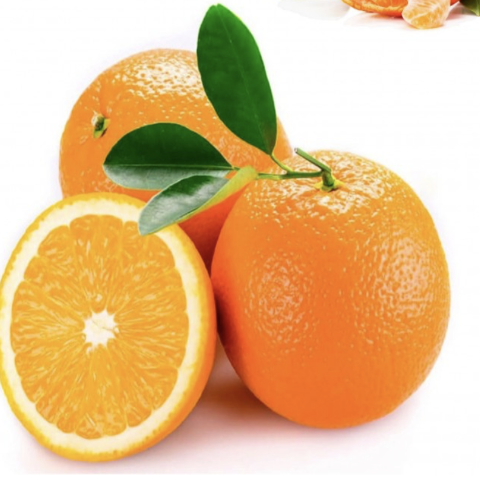orange: (194, 120, 461, 442), (51, 43, 318, 304)
